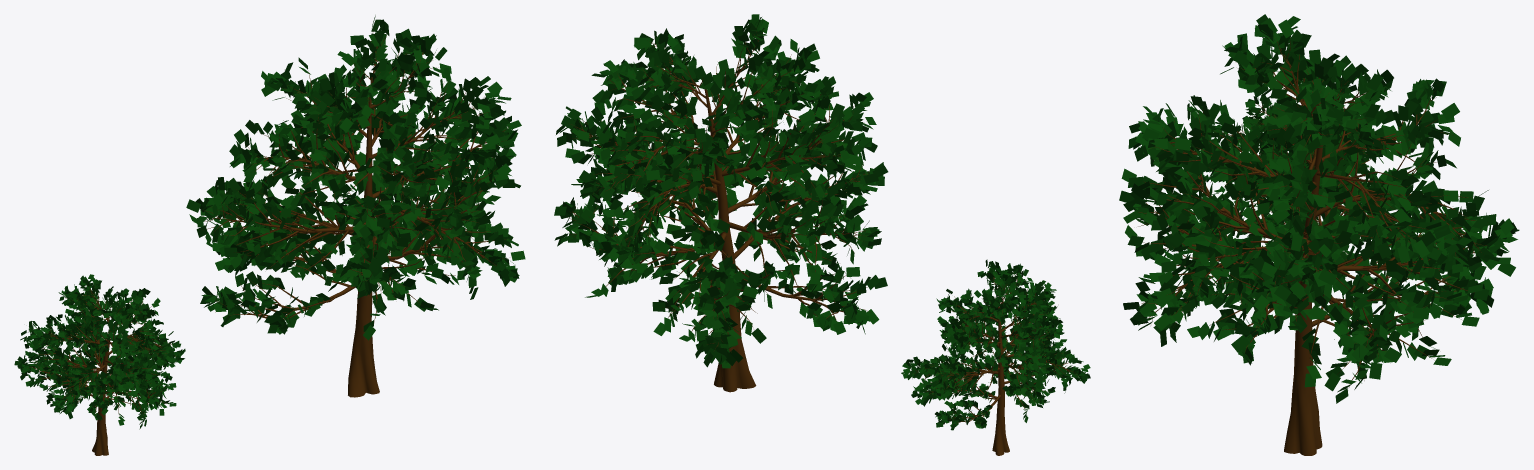
Rendered from uploads_files_3256127_FBX.FBX.
3 views of the same model, side by side, from view 1: azimuth 30°, elevation 25°; view 2: azimuth 150°, elevation 25°; view 3: azimuth 270°, elevation 25° (orthographic). The views are drawn at different scales.
Visible parts, largest first — view 1: Foliage007, Foliage006; view 2: Foliage007, Foliage006; view 3: Foliage007, Foliage006.
Boxes of the visible parts, <box> form: Foliage007: <box>186,15,525,397</box>; Foliage006: <box>14,274,185,455</box>; Foliage007: <box>554,14,888,392</box>; Foliage006: <box>901,259,1090,455</box>; Foliage007: <box>1119,14,1519,455</box>; Foliage006: <box>1195,85,1411,283</box>.
Bounding box in the file's own units: 1280 × 879 × 752.
